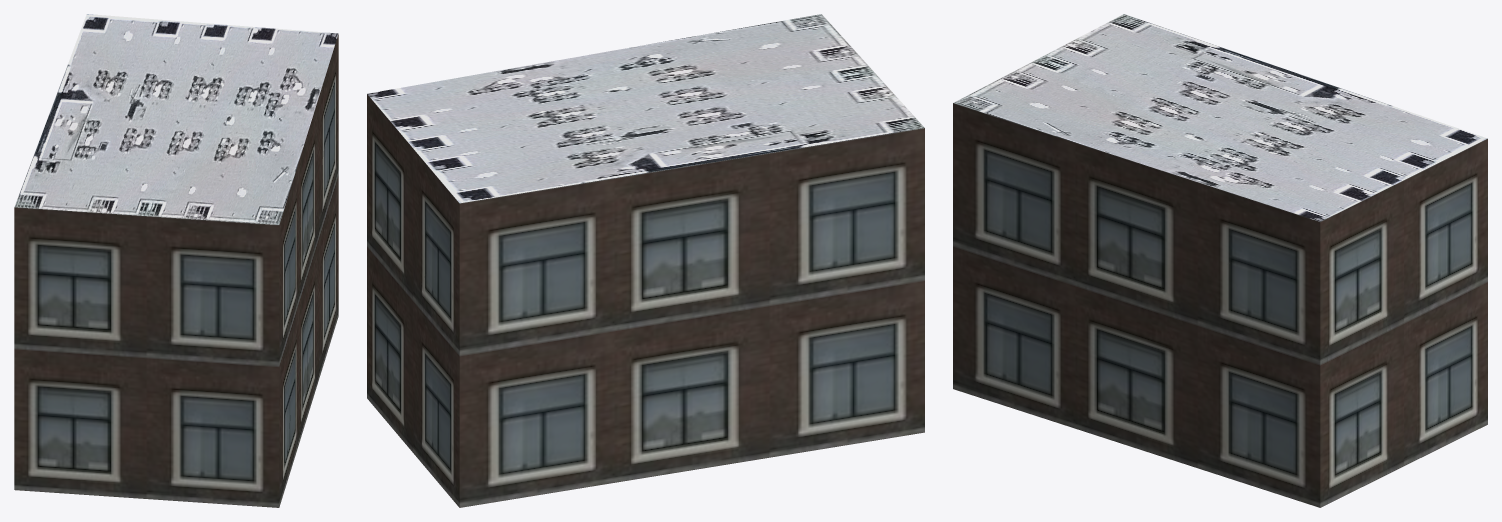
File: ResTex__2193.fbx
The picture shows the model from 3 angles, left to right: view 1: azimuth 30°, elevation 25°; view 2: azimuth 150°, elevation 25°; view 3: azimuth 270°, elevation 25°; orthographic projection. The views are drawn at different scales.
Visible parts, largest first — view 1: CityEngineMaterial_16_m, CityEngineMaterial_15_m; view 2: CityEngineMaterial_16_m, CityEngineMaterial_15_m; view 3: CityEngineMaterial_16_m, CityEngineMaterial_15_m.
Part boxes in pixels (x1,y1,x2,y2): CityEngineMaterial_16_m: (14,34,338,507); CityEngineMaterial_15_m: (14,14,338,224); CityEngineMaterial_16_m: (367,94,924,507); CityEngineMaterial_15_m: (367,14,924,203); CityEngineMaterial_16_m: (953,103,1487,507); CityEngineMaterial_15_m: (953,14,1487,221).
Bounding box in the file's own units: 9.35 × 6 × 10.17.
2 materials, 2 textured.
